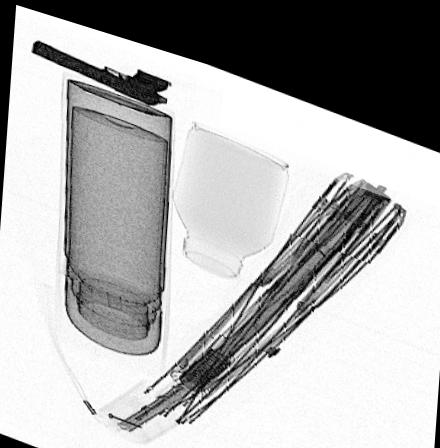Gun: (31, 36, 169, 95)
